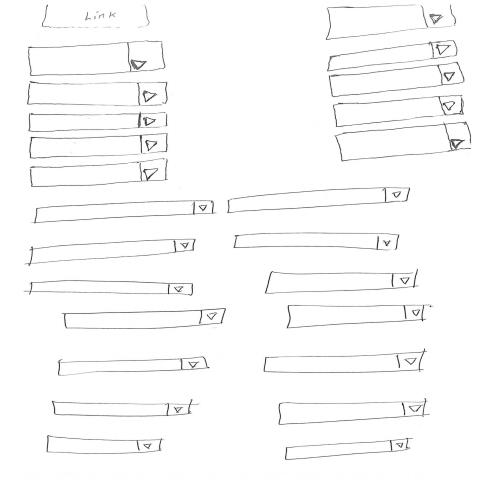Select: (228, 187, 412, 215), (28, 41, 167, 78), (29, 239, 196, 267), (34, 201, 215, 225), (333, 96, 465, 128), (30, 159, 169, 188), (30, 133, 169, 160), (263, 351, 426, 374), (278, 402, 427, 427), (26, 82, 169, 108), (265, 272, 419, 295), (63, 309, 227, 330), (287, 305, 426, 329), (233, 233, 400, 252), (57, 357, 211, 377), (28, 112, 169, 133), (285, 439, 413, 462), (29, 281, 195, 297), (46, 436, 164, 456), (52, 401, 193, 417)
